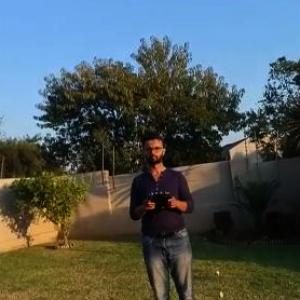follow: (125, 124, 203, 299)
